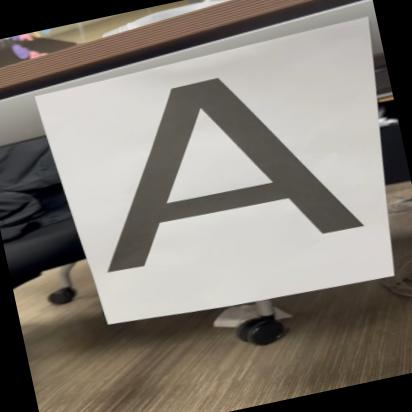seat: (63, 48, 372, 280)
